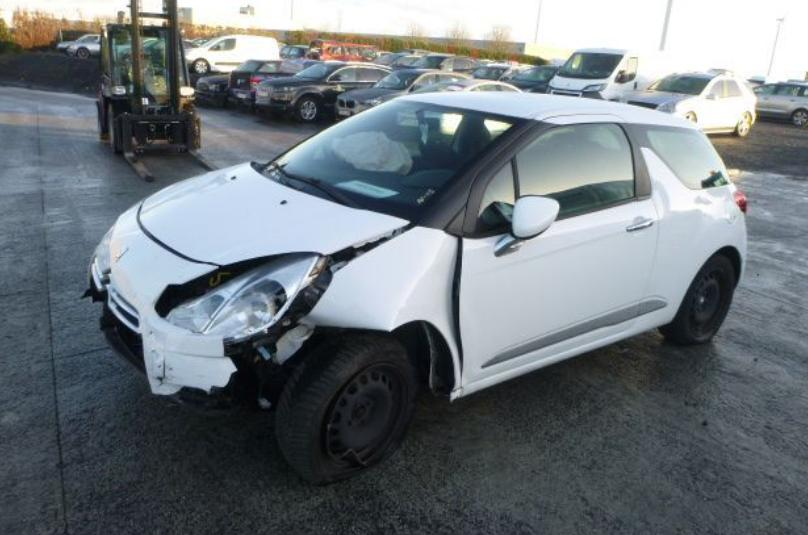Back-wheel: (658, 253, 735, 344)
Back-window: (628, 124, 729, 190)
Fender: (297, 227, 463, 391)
Front-bumper: (110, 200, 239, 397)
Front-door: (459, 114, 660, 387)
Front-wheel: (274, 334, 418, 483)
Front-window: (516, 123, 635, 219), (478, 163, 516, 229)
Grille: (88, 250, 142, 334)
Headlight: (165, 251, 320, 340), (94, 221, 114, 276)
Hood: (138, 161, 410, 266)
Mirror: (494, 196, 561, 256)
Quarter-panel: (639, 147, 748, 316)
Rocker-panel: (450, 296, 684, 403)
Roof: (393, 93, 702, 131)
Tail-light: (734, 191, 747, 215)
Windshield: (264, 99, 526, 218)
